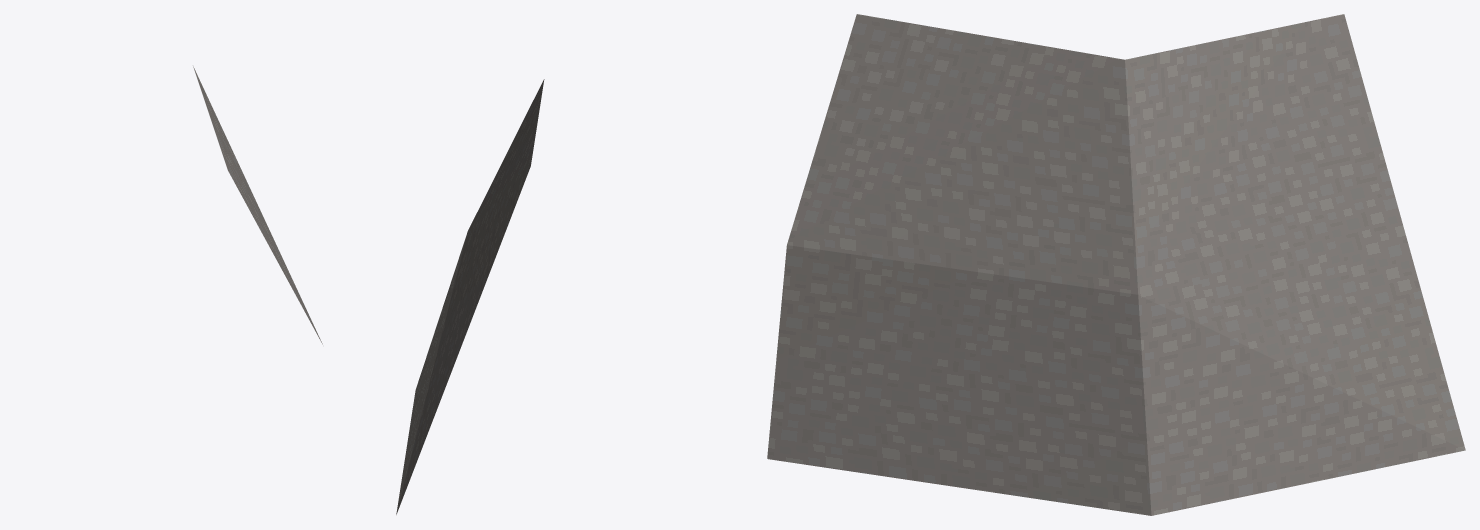
Rendered from kd_stage_135c43_4_29_bounded_piece_9.glb.
3 renders of one model, left to right at view 1: azimuth 30°, elevation 25°; view 2: azimuth 150°, elevation 25°; view 3: azimuth 270°, elevation 25°, orthographic. The views are drawn at different scales.
Parts seen in each view (by area): view 1: kd_stage_135c43_4_29_bounded_piece_9; view 2: kd_stage_135c43_4_29_bounded_piece_9; view 3: kd_stage_135c43_4_29_bounded_piece_9.
Part boxes in pixels (x1,y1,x2,y2): kd_stage_135c43_4_29_bounded_piece_9: (193,66,322,344); kd_stage_135c43_4_29_bounded_piece_9: (396,79,544,514); kd_stage_135c43_4_29_bounded_piece_9: (767,14,1465,515).
Bounding box in the file's own units: 0.0747 × 0.12 × 0.1954.
Materials: 1 (1 with a texture image).
